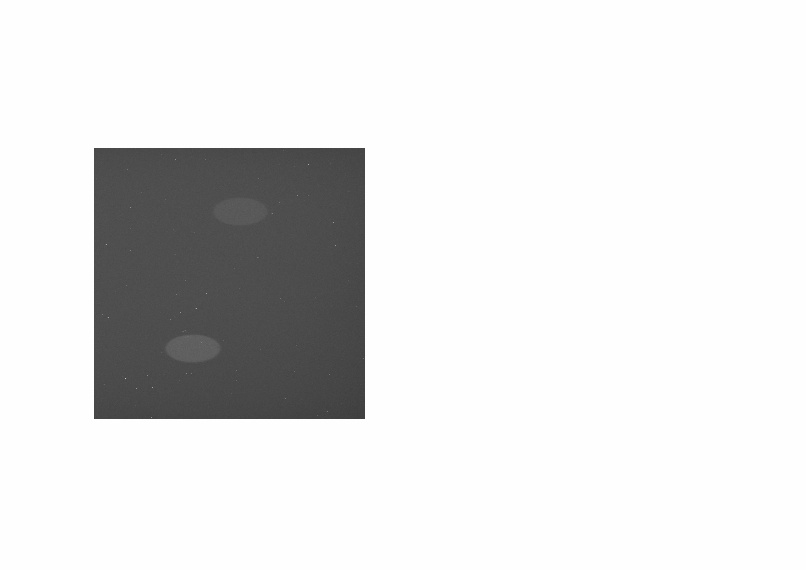bubble: (165, 334, 222, 362), (213, 197, 267, 226)
